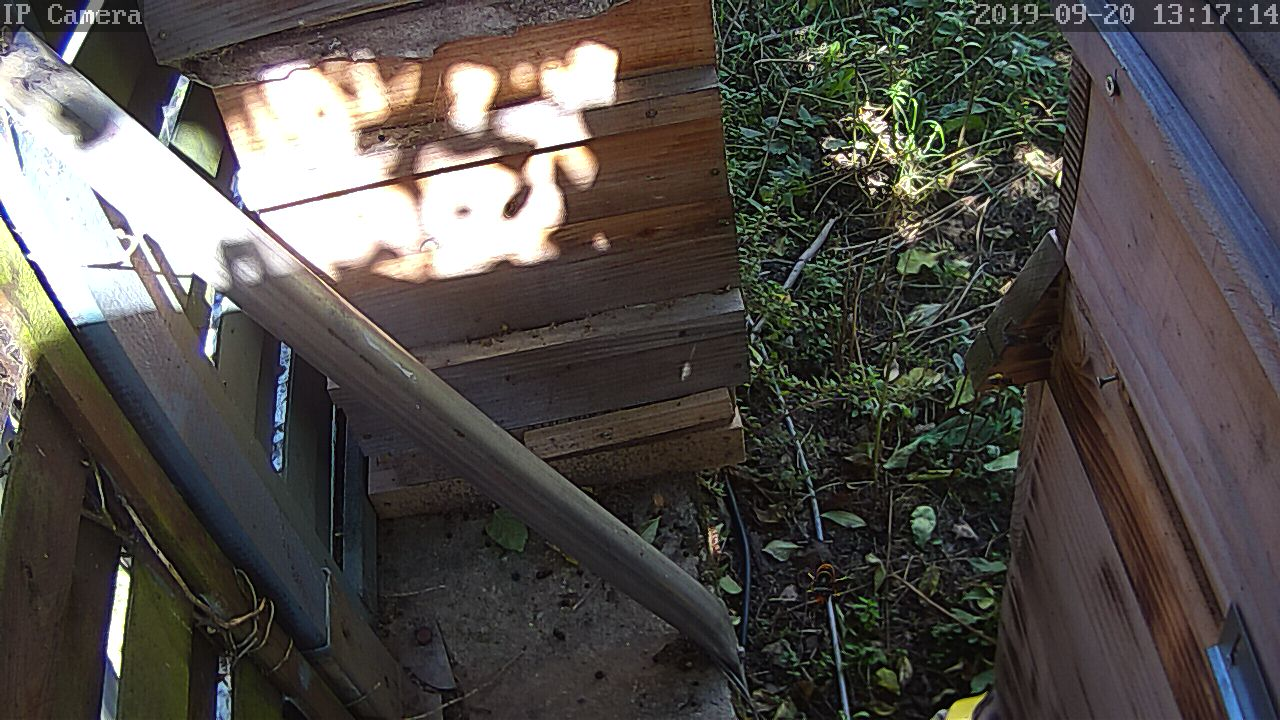hornet: (10, 11, 1262, 720)
